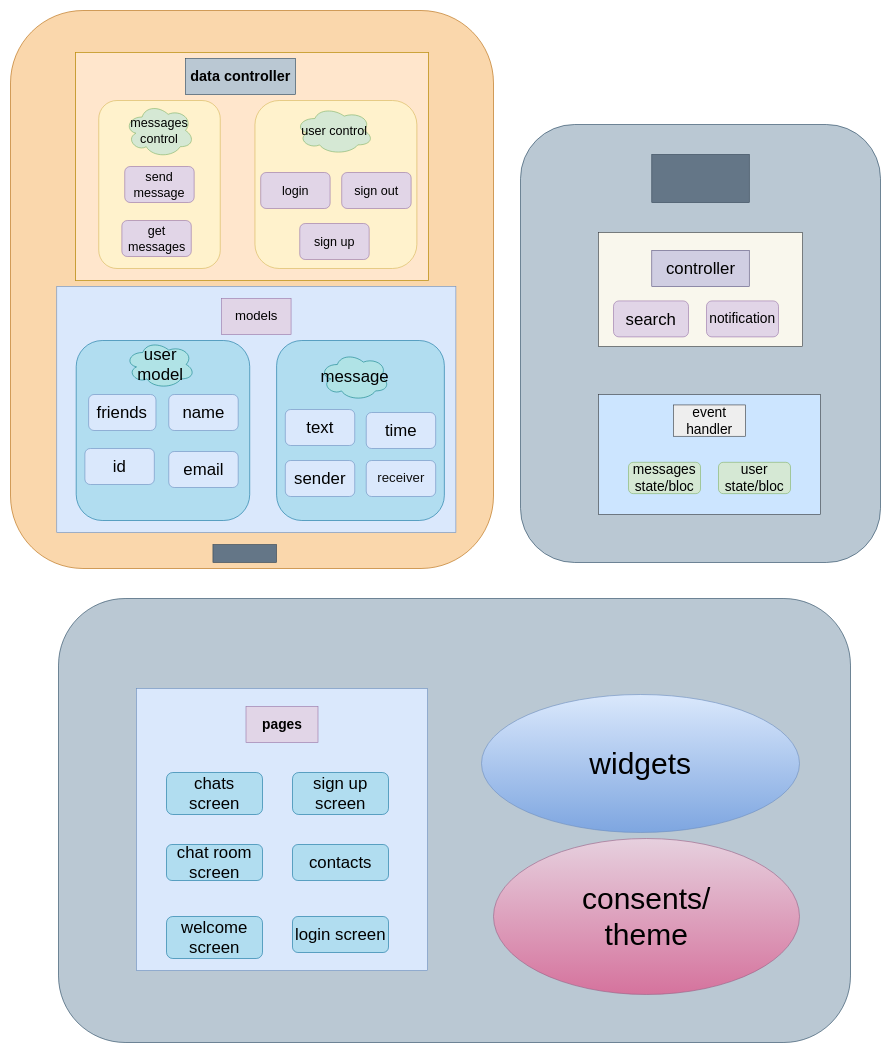
The diagram is 891 pixels wide and 1053 high, and some of its shapes have lost their labels. Each missing label, with the centre of its shape:
"data" belongs at (244,553).
"domain" belongs at (700,178).
